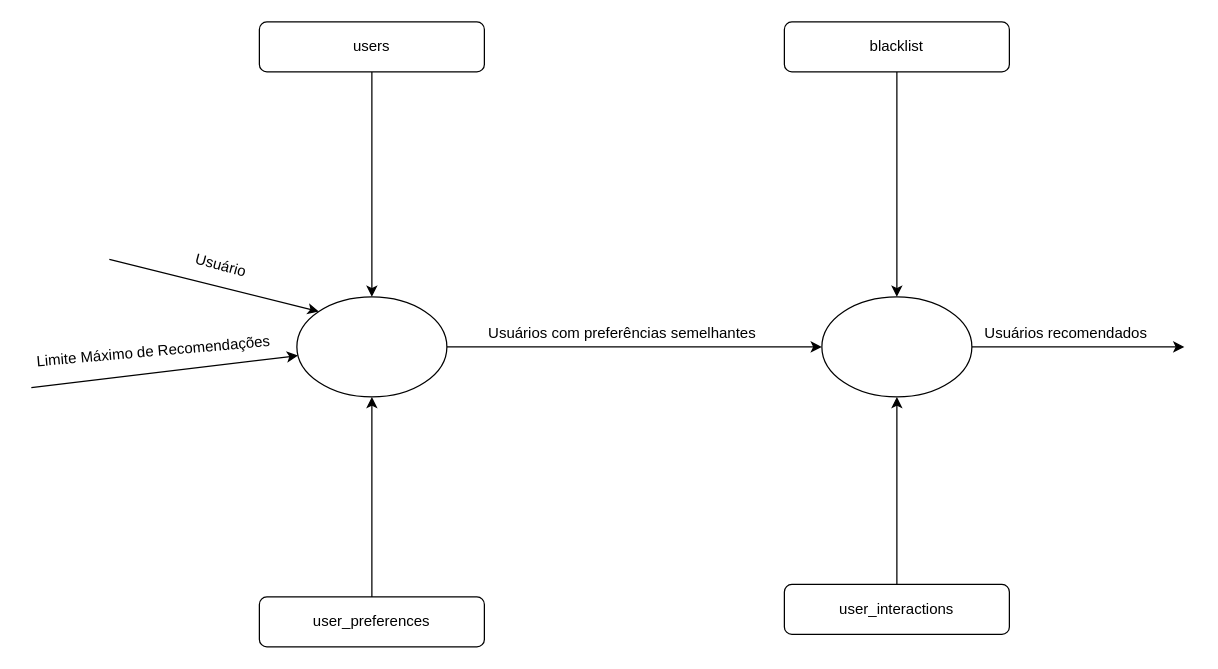
Some shapes in this 1218 by 669 pixel diagram are drawn without their labels. The centre of each missing label's shape, as x and y in pixels:
"Calcular usuários com preferências semelhantes" goes at (371,346).
"Filtrar Usuários" goes at (896,346).
